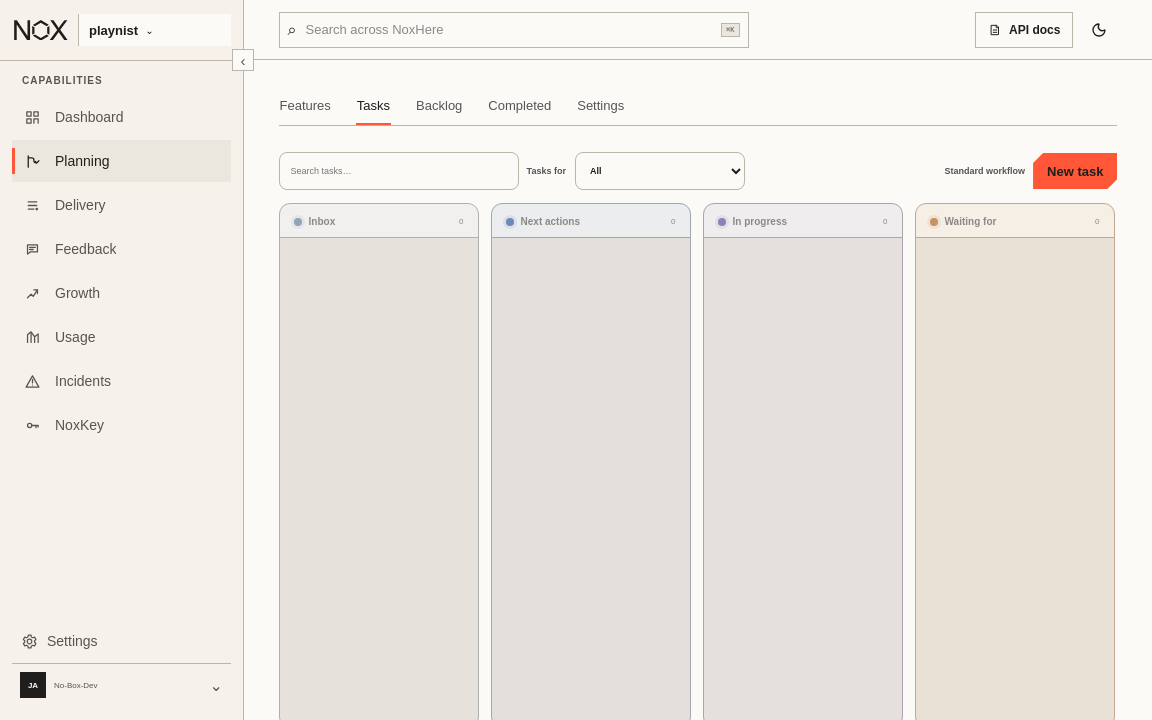
Test case: NoxHere API-backed platform › adds a task and optionally ties it to a feature
The image size is (1152, 720).
Click the button "New task" at (1075, 171), box [1033, 153, 1118, 189]
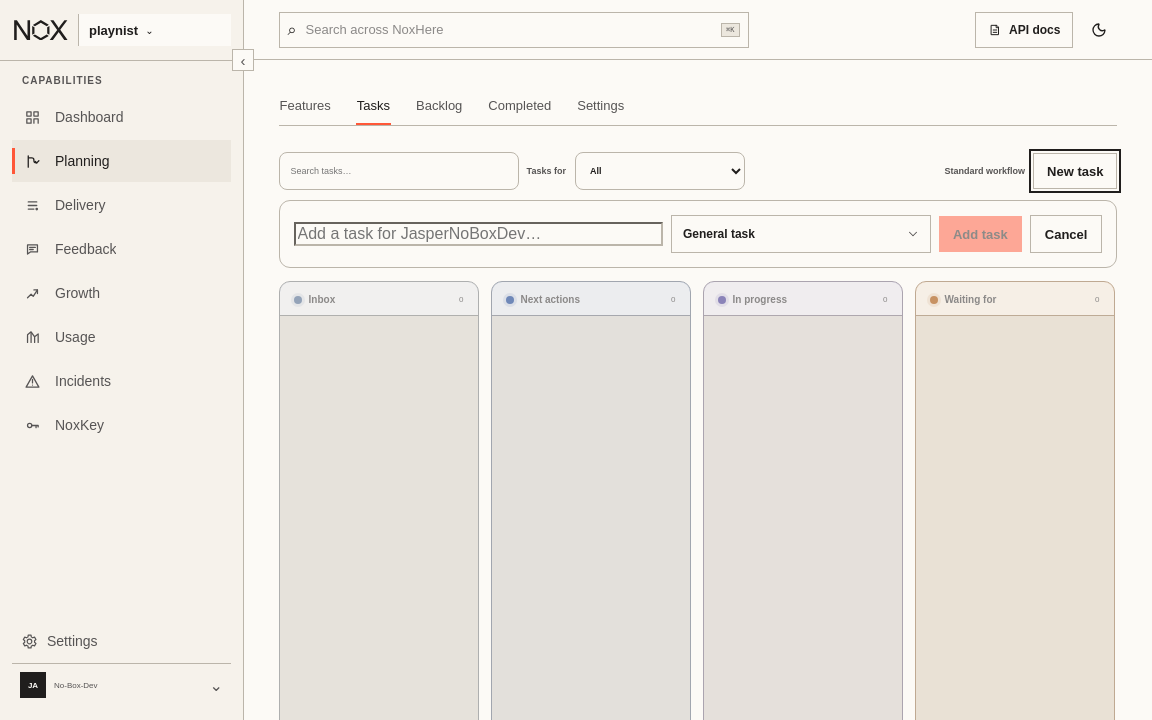
Type "Check mobile payment" into the field named "Task title" at (478, 234), box [294, 222, 663, 246]
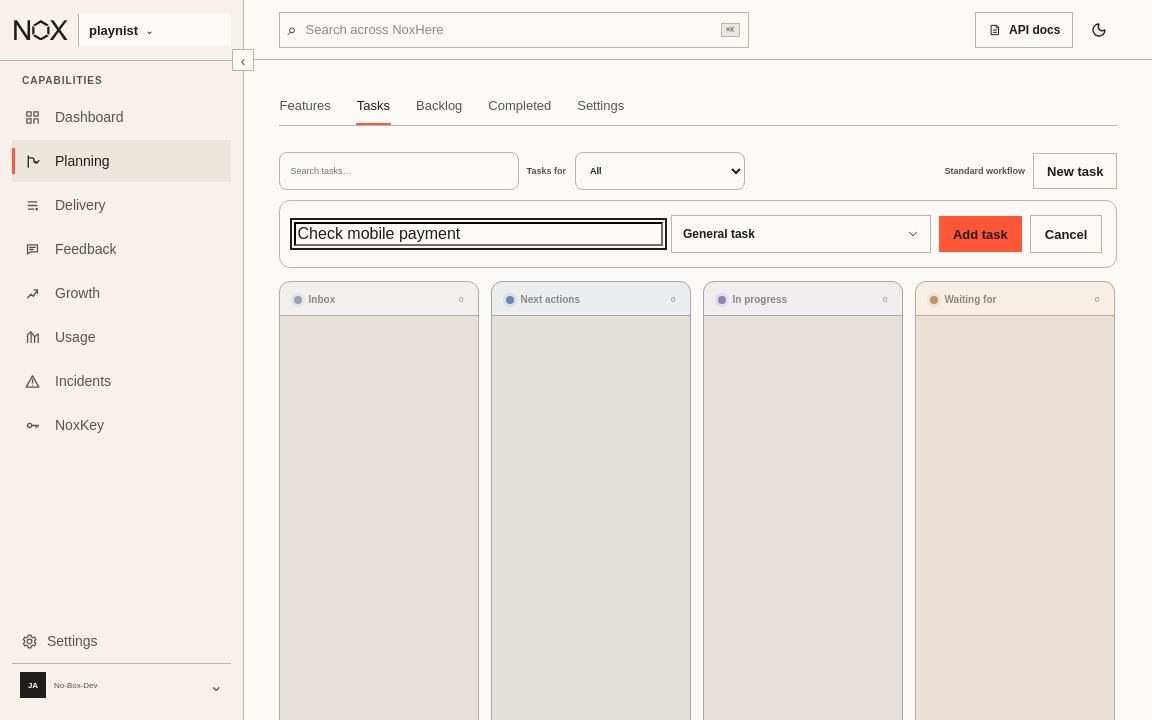
Click the dropdown named "Tie task to feature" at (801, 234), box [671, 215, 931, 253]
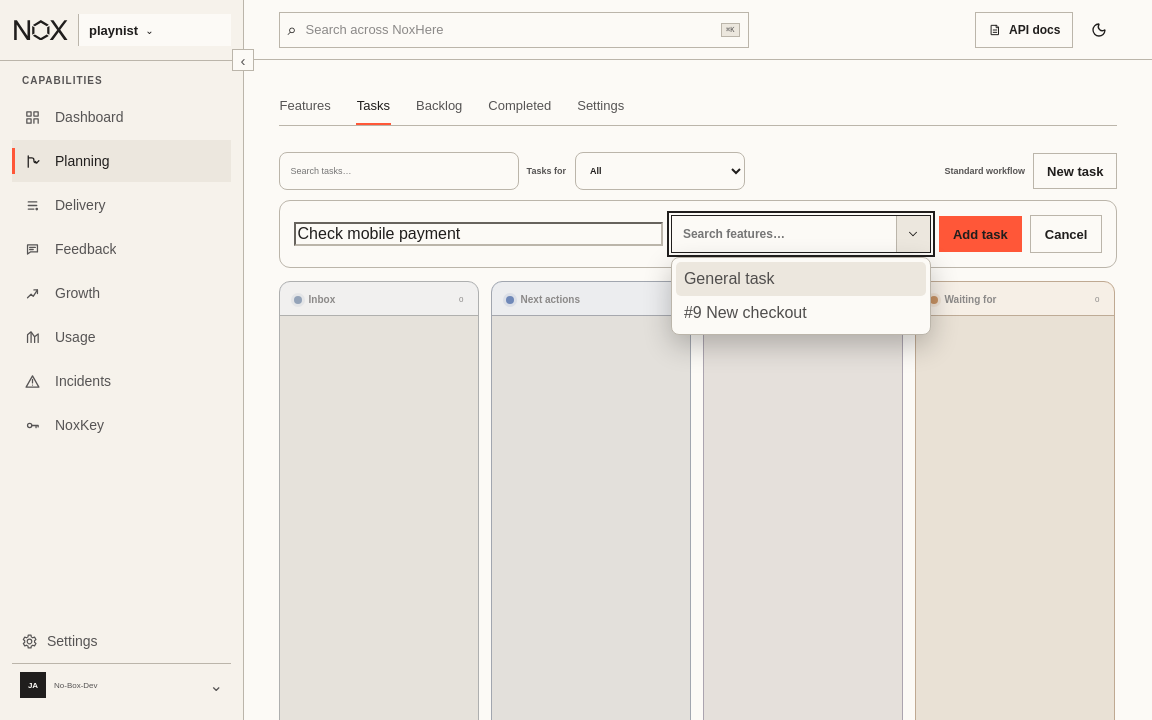
Click the option "#9 New checkout" at (801, 313), box [676, 296, 926, 330]
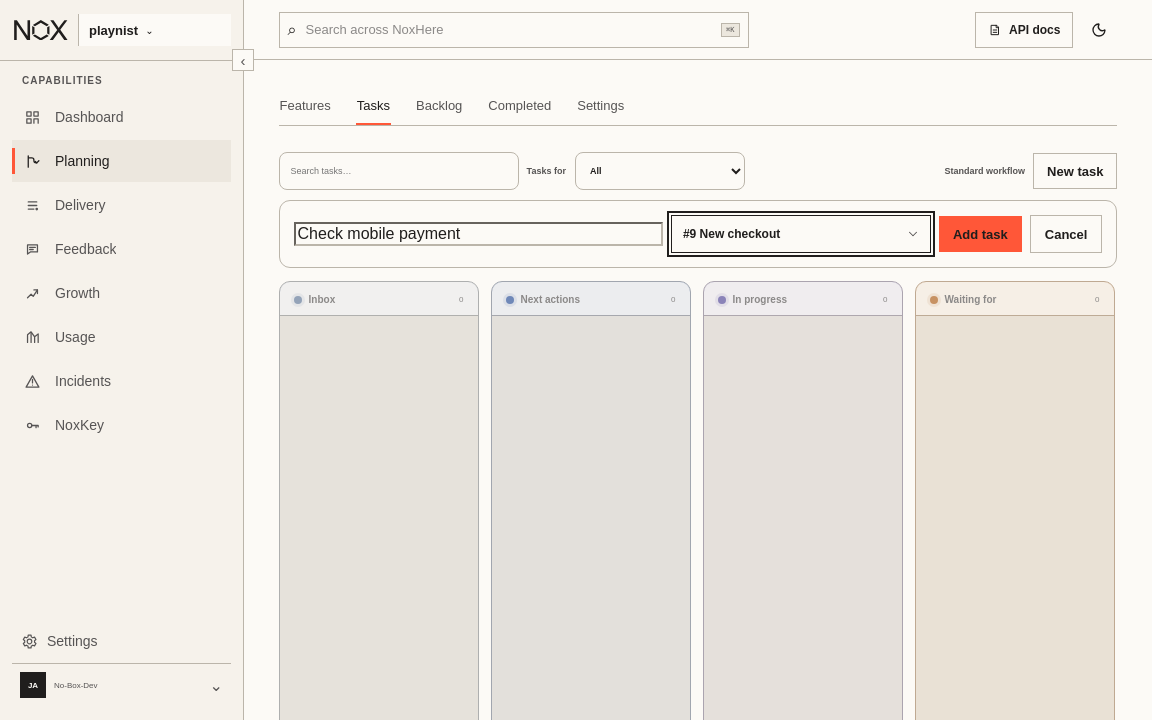
Click the button "Add task" at (980, 234), box [939, 216, 1022, 252]
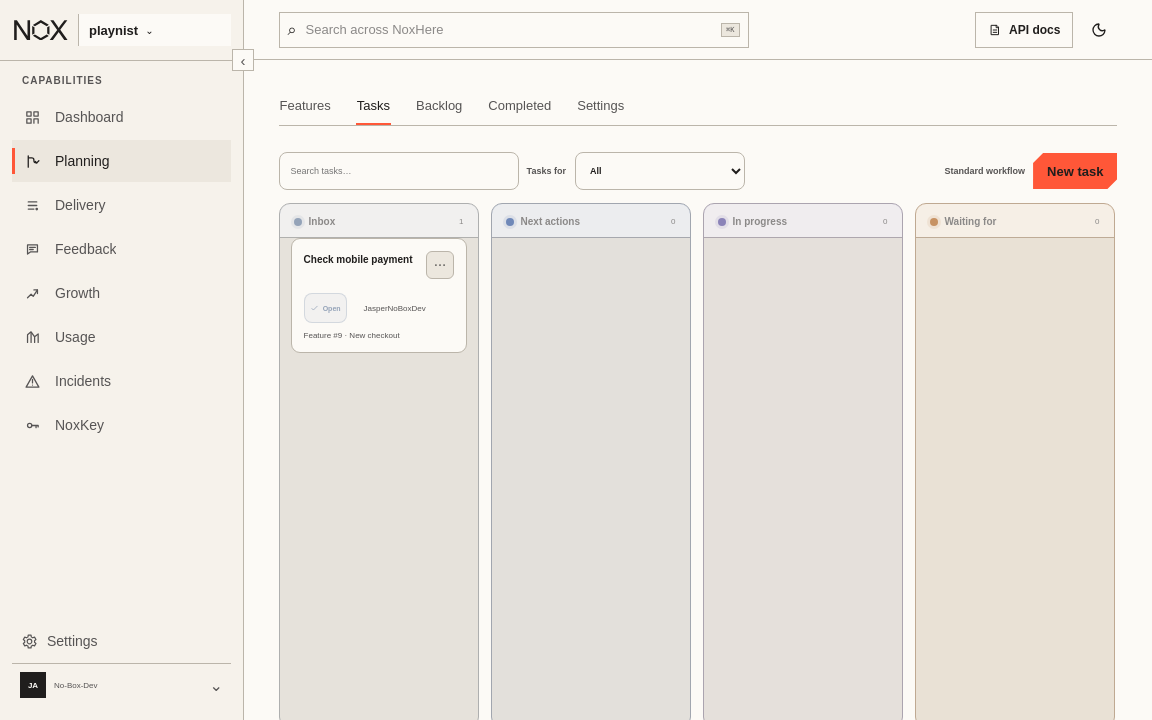
Now the text "Feature #9 · New checkout" is shown, box [304, 331, 400, 340]
Now the text "JasperNoBoxDev" is shown, box [364, 304, 426, 312]
